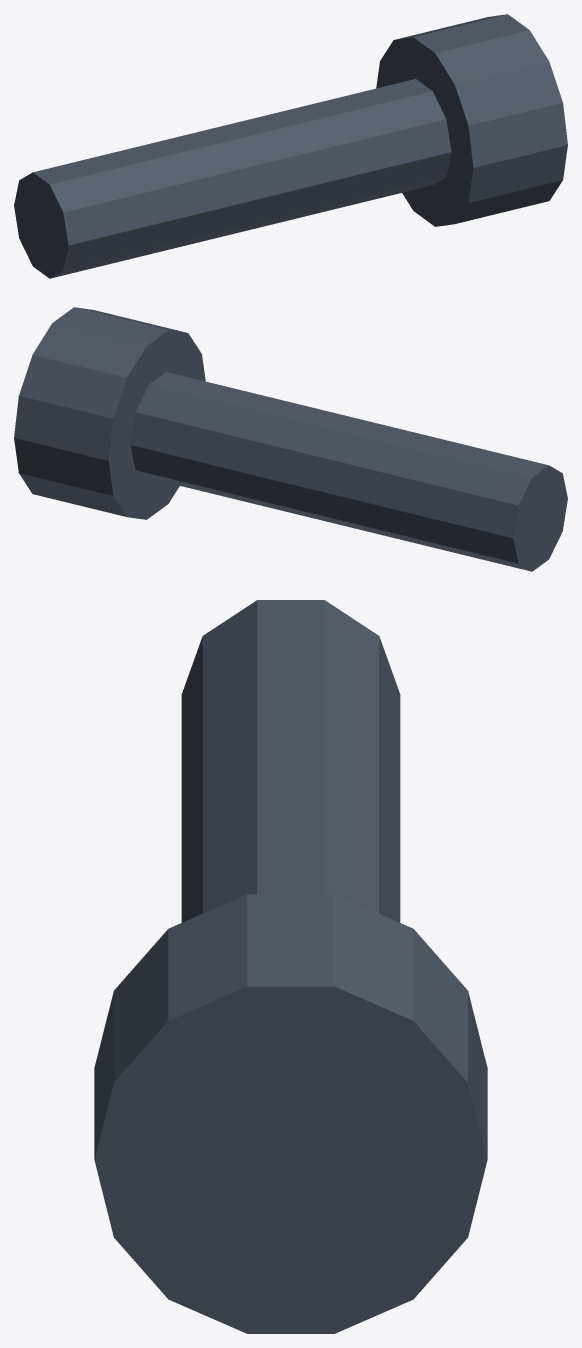
3 views of the same model, one above another, from view 1: azimuth 30°, elevation 25°; view 2: azimuth 150°, elevation 25°; view 3: azimuth 270°, elevation 25° (orthographic). The views are drawn at different scales.
Visible parts, largest first — view 1: part_035; view 2: part_035; view 3: part_035.
Part boxes in pixels (left/top/right/bottom): part_035: left=14, top=14, right=567, bottom=278; part_035: left=14, top=307, right=567, bottom=571; part_035: left=94, top=600, right=487, bottom=1333.
Size of the model in its own units: 0.0101 by 0.0036 by 0.00351.
